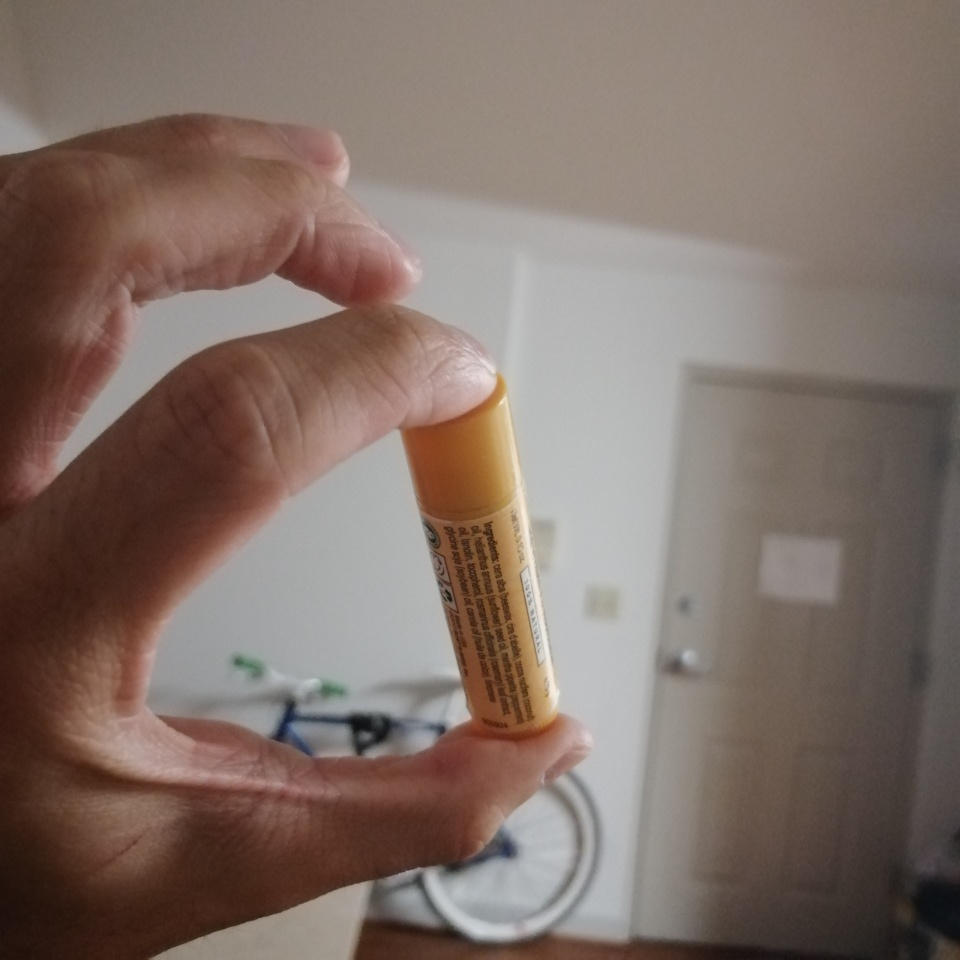chapstick: (400, 371, 559, 737)
